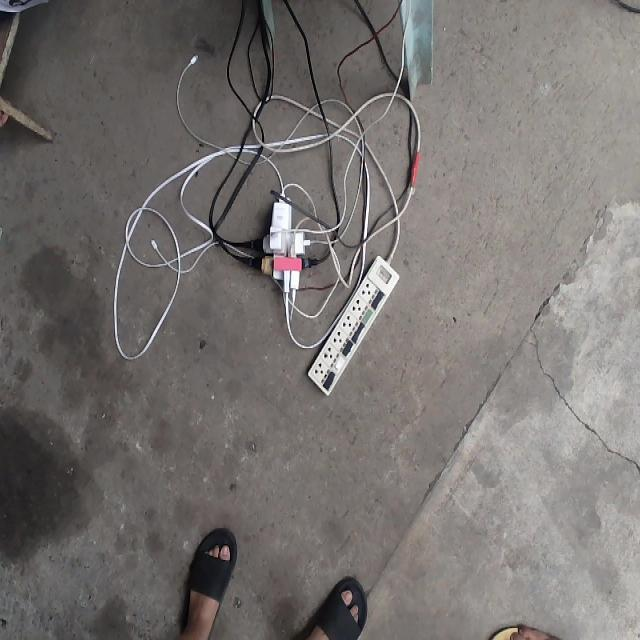-: (244, 186, 321, 298)
